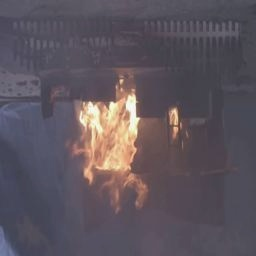fire: (69, 82, 148, 214)
